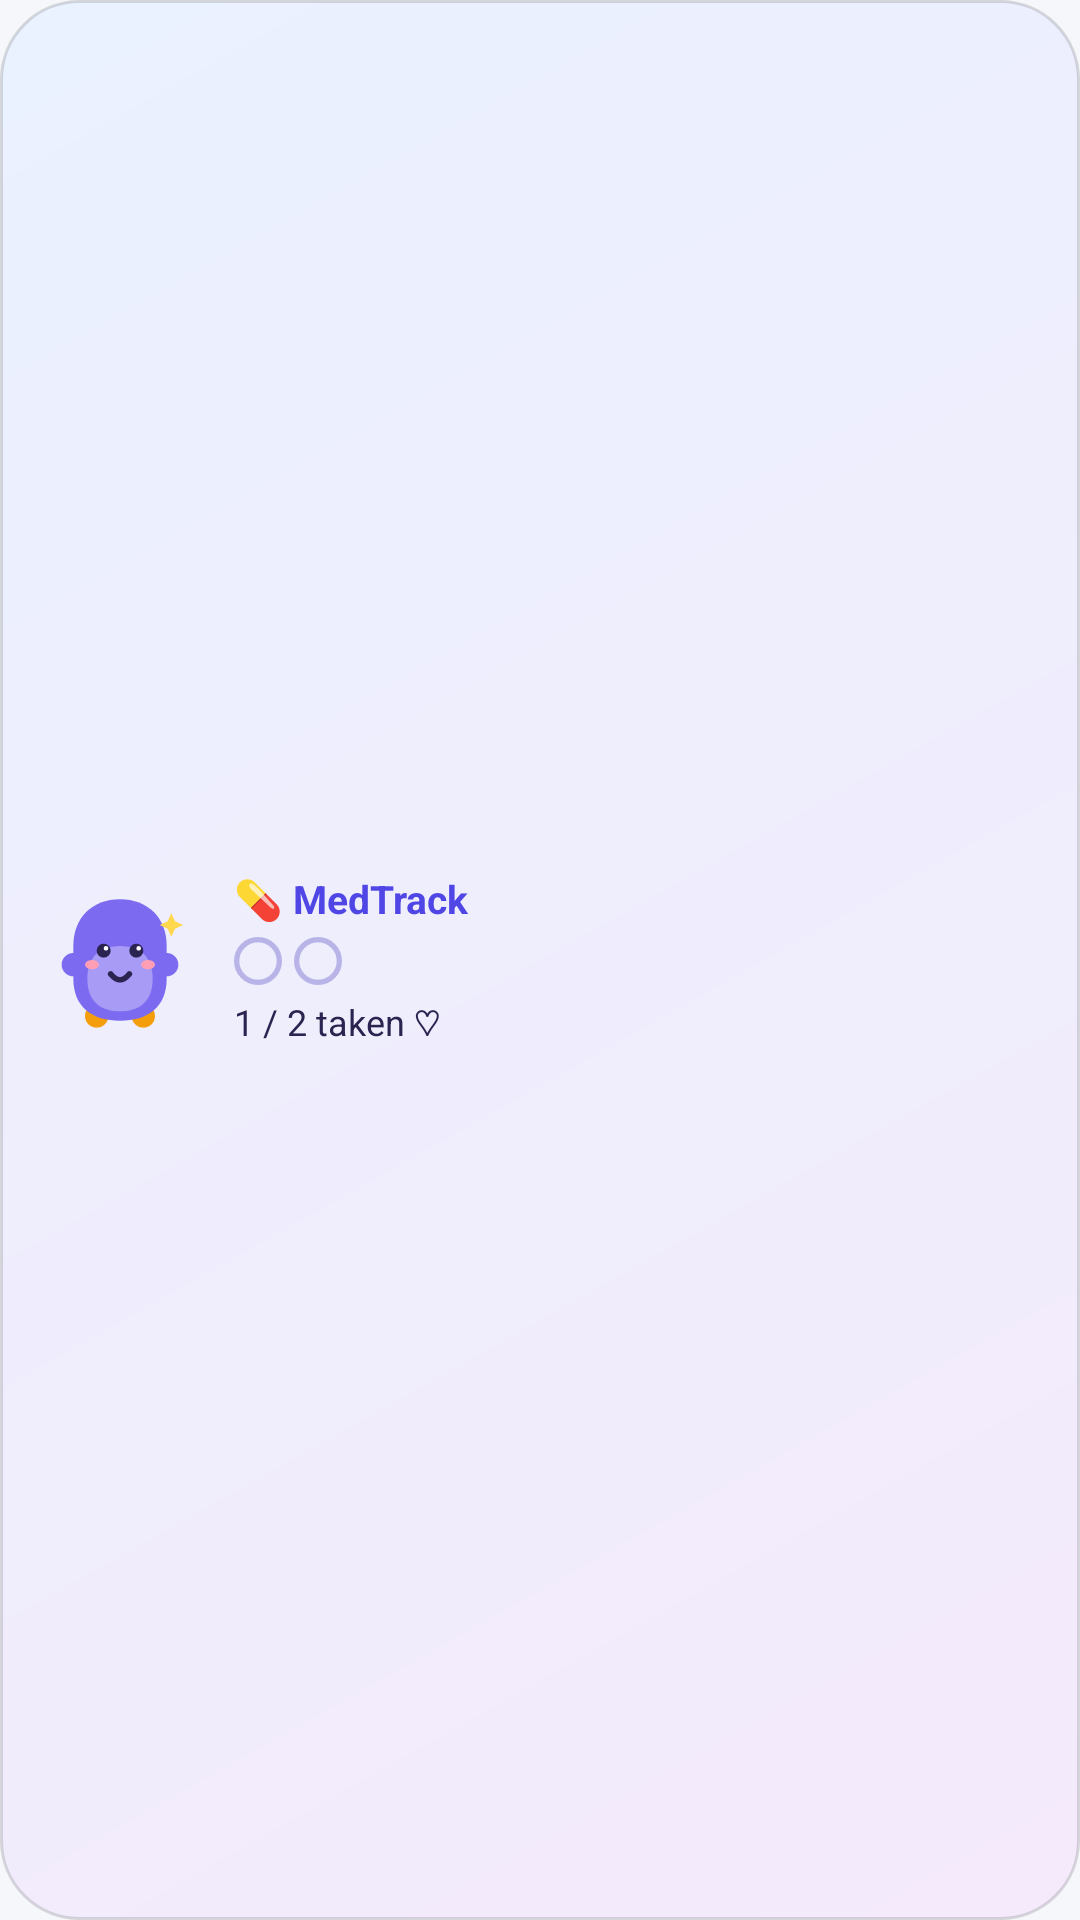

Icons on this 1080x1920 Android screen, each with the point to tap as (x=x, y=y):
dot upcoming: (x=258, y=961), (x=318, y=961)
mascot happy: (x=122, y=963)
